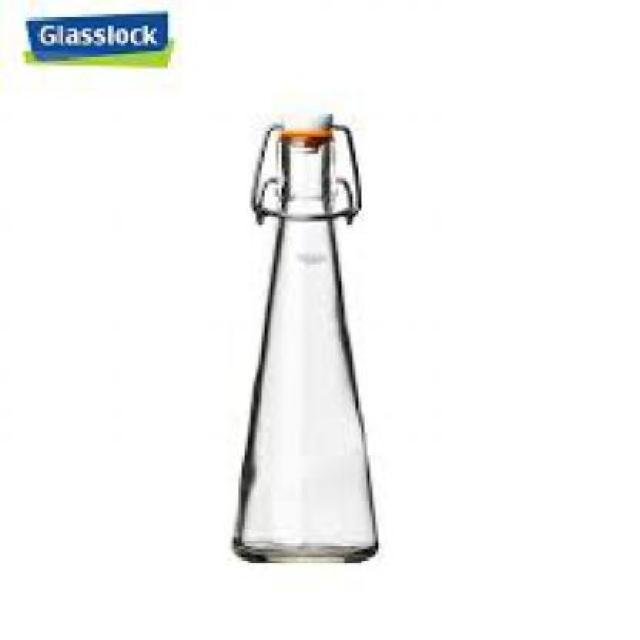kaca: (224, 134, 376, 557)
